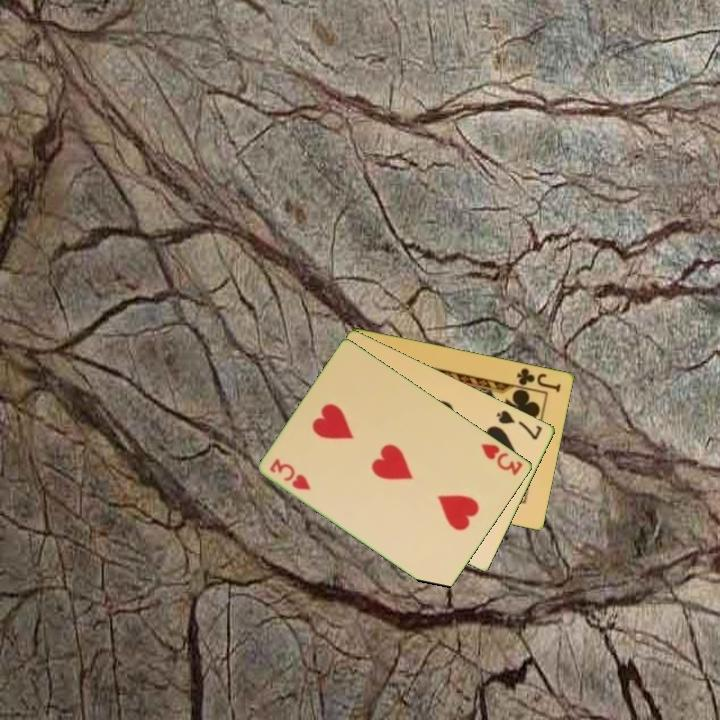3h: (478, 440, 526, 478), (266, 455, 314, 493)
7s: (493, 406, 546, 443)
Jc: (513, 364, 564, 395)
